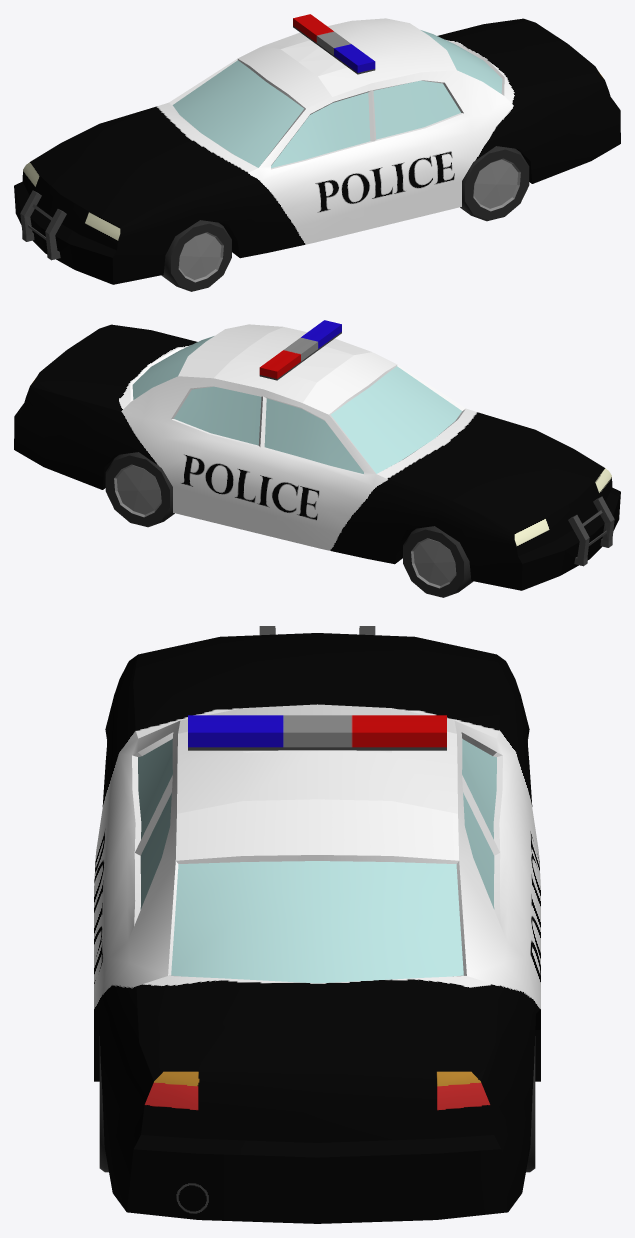
File: Crown_Victoria.FBX
3 views of the same model, one above another, from view 1: azimuth 30°, elevation 25°; view 2: azimuth 150°, elevation 25°; view 3: azimuth 270°, elevation 25° (orthographic). The views are drawn at different scales.
Parts seen in each view (by area): view 1: Crown Victoria; view 2: Crown Victoria; view 3: Crown Victoria.
Boxes of the visible parts, x1,y1,x2,y2 form: Crown Victoria: (14, 14, 620, 291); Crown Victoria: (14, 320, 620, 597); Crown Victoria: (94, 626, 540, 1223).
Size of the model in its own units: 88.3 by 25.64 by 31.05.
